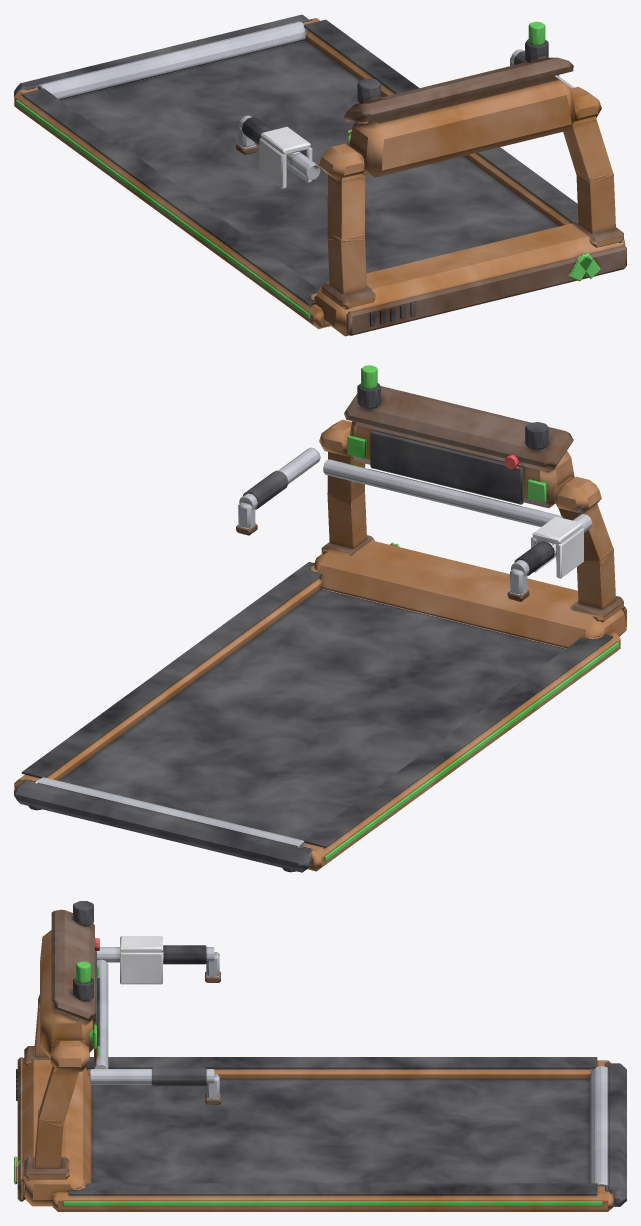
File: Treadmill_Bois_Rig.fbx
3 renders of one model, top to bottom at view 1: azimuth 30°, elevation 25°; view 2: azimuth 150°, elevation 25°; view 3: azimuth 270°, elevation 25°, orthographic. The views are drawn at different scales.
Parts seen in each view (by area): view 1: Frame, Console; view 2: Frame, Console; view 3: Frame, Console.
Boxes of the visible parts, <box> form: Frame: <box>14,14,626,336</box>; Console: <box>236,21,623,309</box>; Frame: <box>14,540,626,872</box>; Console: <box>236,365,623,622</box>; Frame: <box>14,1057,626,1211</box>; Console: <box>24,901,220,1180</box>.
Bounding box in the file's own units: 8.19 × 6 × 15.24.
Materials: 1 (1 with a texture image).
